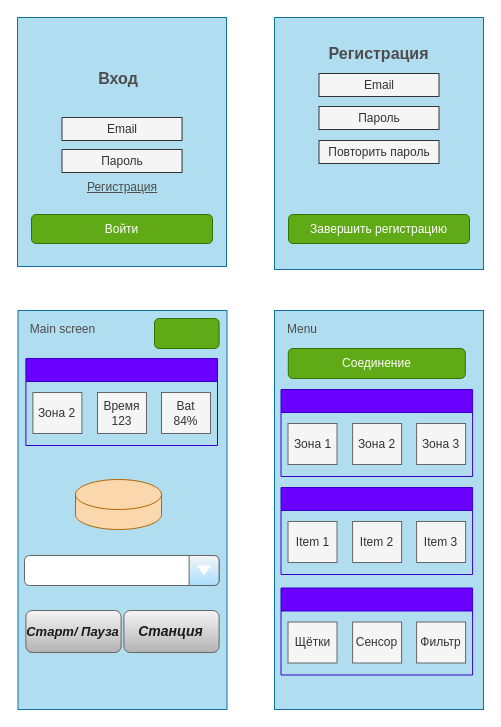
The diagram is 501 pixels wide and 727 high, and some of its shapes have lost their labels. Here are the shapes that lost their labels. From the top down, the box of each, then its label:
(154, 318, 219, 348): Меню
(25, 358, 218, 446): Информация
(280, 388, 473, 476): Зоны уборки
(74, 478, 162, 530): Робот
(280, 486, 473, 574): График работы
(24, 554, 219, 586): Выбрать программу
(280, 587, 473, 675): Обслуживание
